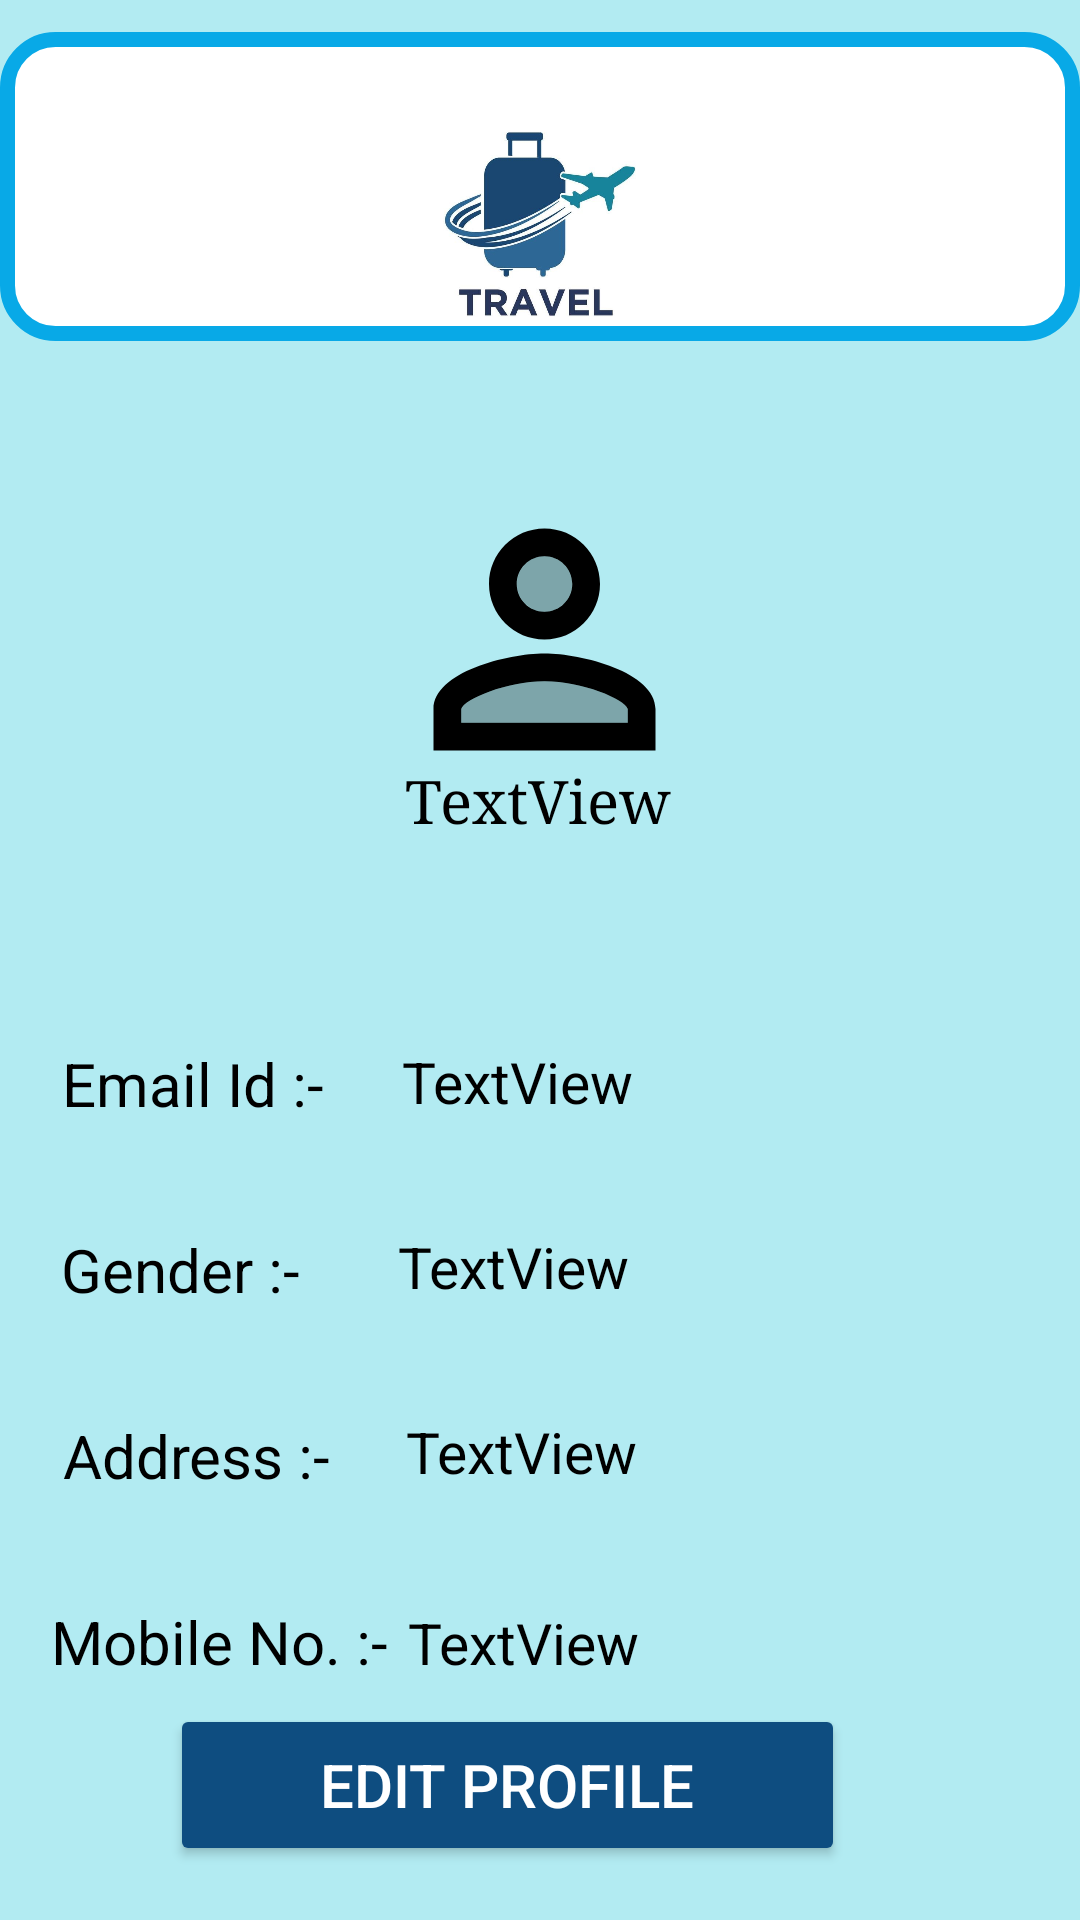

Where to tap for icons on this 1080w x 1920h app screen, as point (x, y):
perm identity: point (544, 657)
